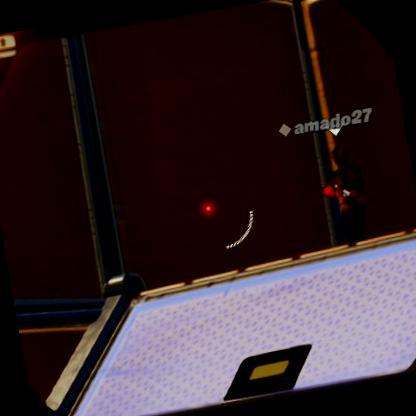person: (314, 142, 374, 248)
